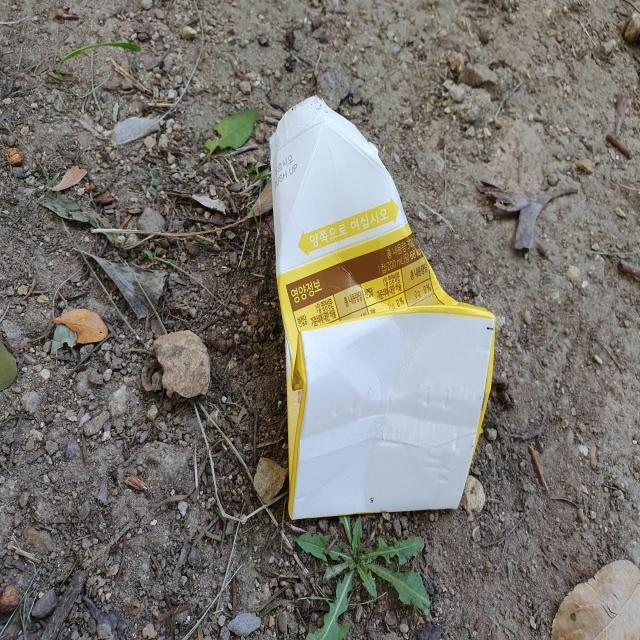paperpack: (270, 95, 496, 519)
